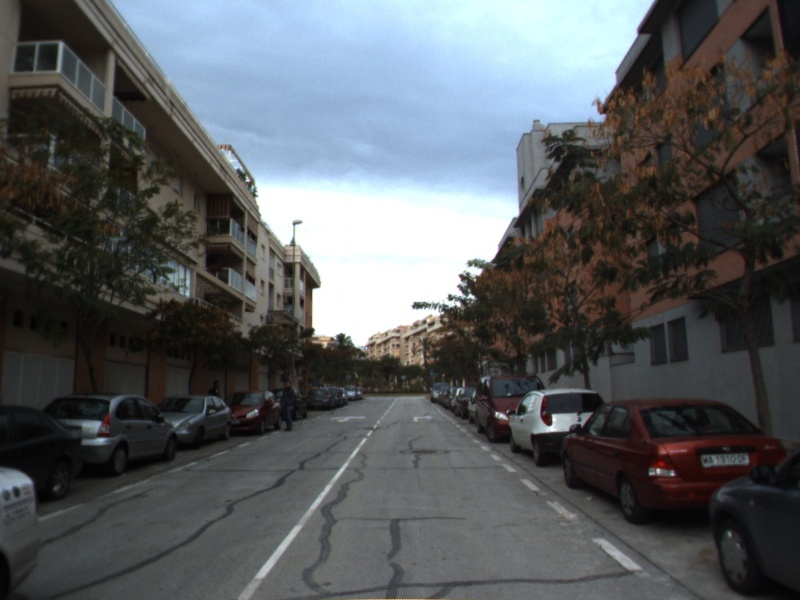RIGHT: (411, 413, 436, 424)
